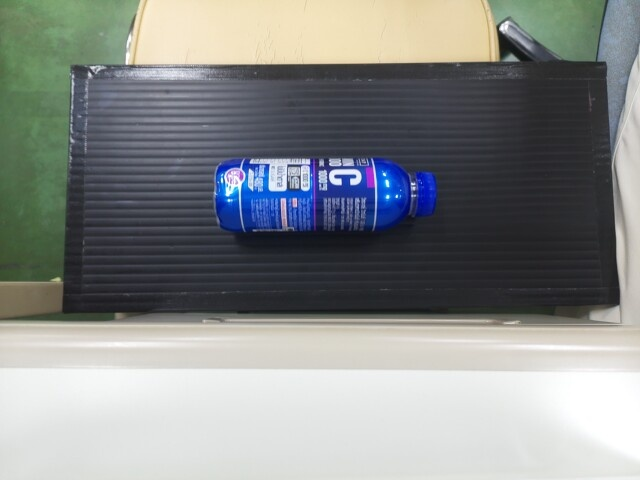plastic_bottle: (212, 153, 436, 236)
